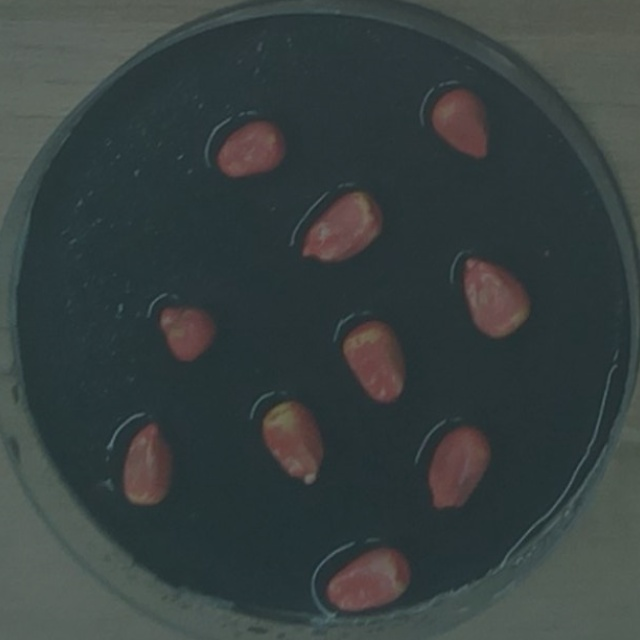Zea mays: (293, 183, 392, 272), (453, 250, 539, 348), (318, 540, 419, 621), (253, 394, 330, 495), (420, 418, 497, 518), (335, 312, 412, 410), (115, 415, 181, 513), (209, 113, 293, 185), (425, 80, 494, 166), (152, 299, 223, 370)
